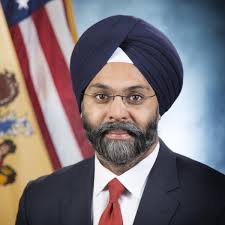helmet: (67, 12, 195, 163)
